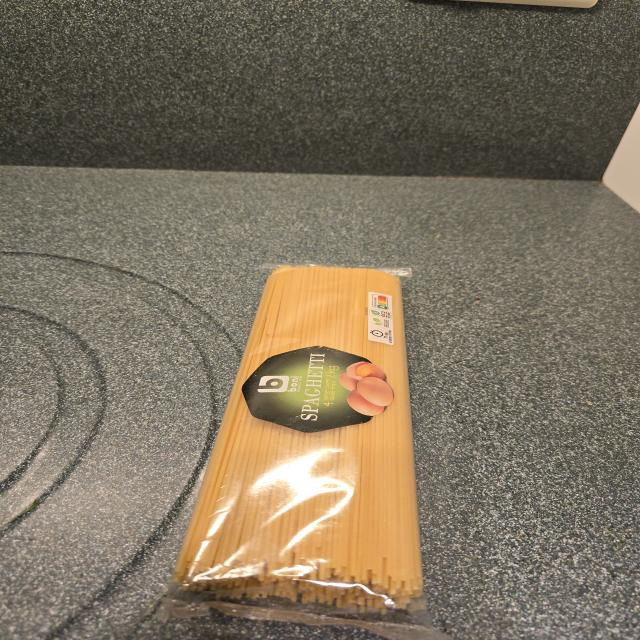Pasta: (176, 266, 422, 613)
